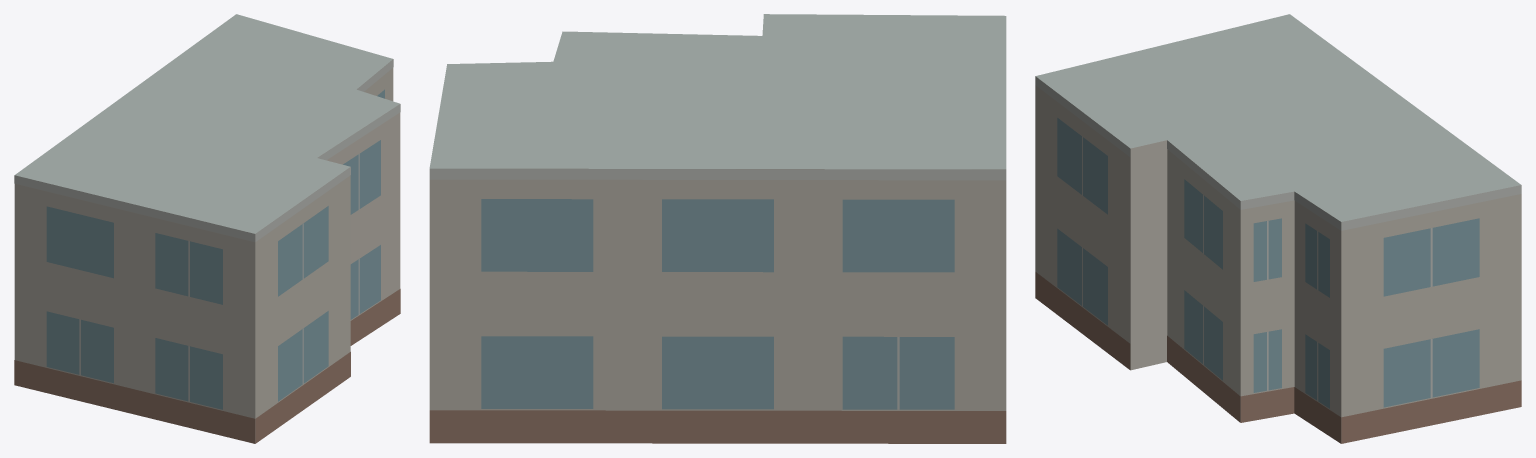
File: survey-upis-32726319.glb
The picture shows the model from 3 angles, left to right: view 1: azimuth 30°, elevation 25°; view 2: azimuth 150°, elevation 25°; view 3: azimuth 270°, elevation 25°; orthographic projection. The views are drawn at different scales.
Visible parts, largest first — view 1: survey-upis-32726319.tmp; view 2: survey-upis-32726319.tmp; view 3: survey-upis-32726319.tmp.
Part boxes in pixels (left/top/right/bottom): survey-upis-32726319.tmp: left=14, top=14, right=400, bottom=443; survey-upis-32726319.tmp: left=429, top=14, right=1006, bottom=443; survey-upis-32726319.tmp: left=1035, top=14, right=1521, bottom=443.
Bounding box in the file's own units: 12.27 × 6.1 × 12.13.
